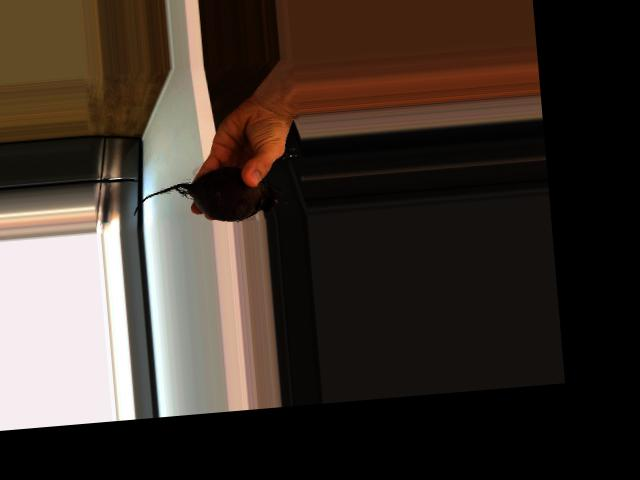beet: (130, 163, 284, 230)
